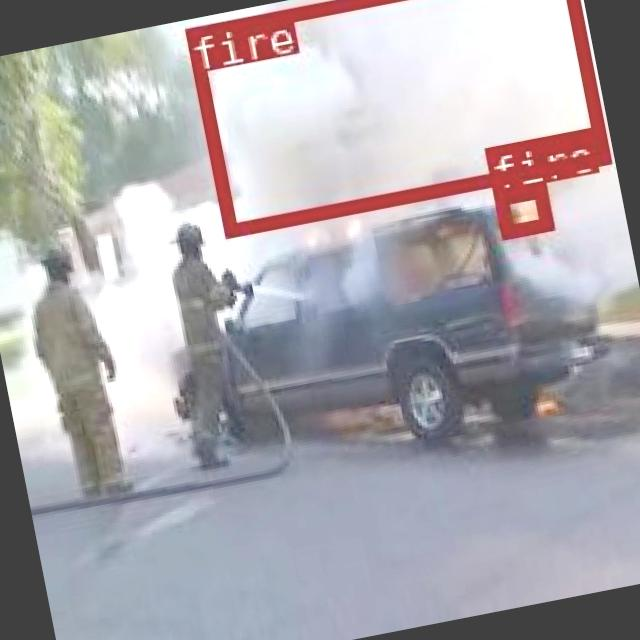fire: (183, 0, 607, 235), (492, 182, 550, 237)
